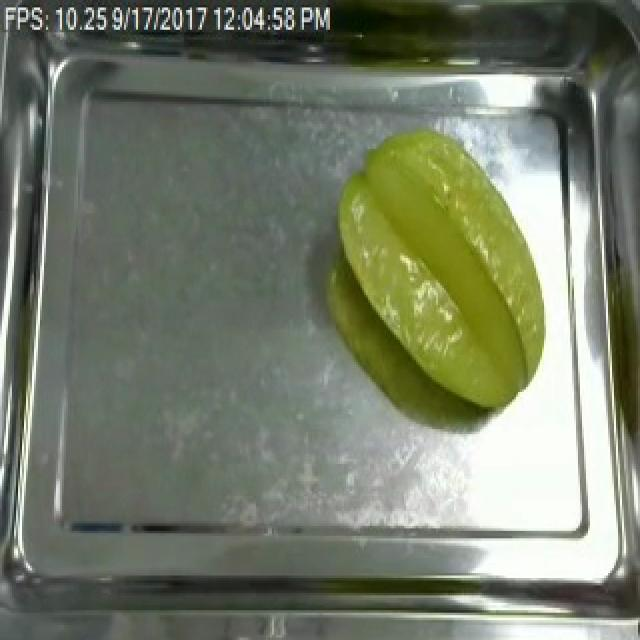fruit: (324, 117, 556, 424)
